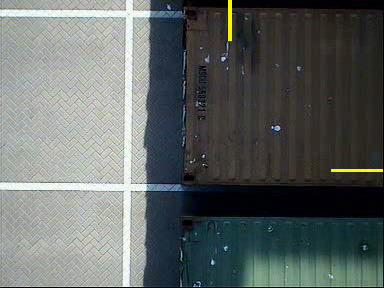groundmarker_2: (133, 112, 201, 158)
